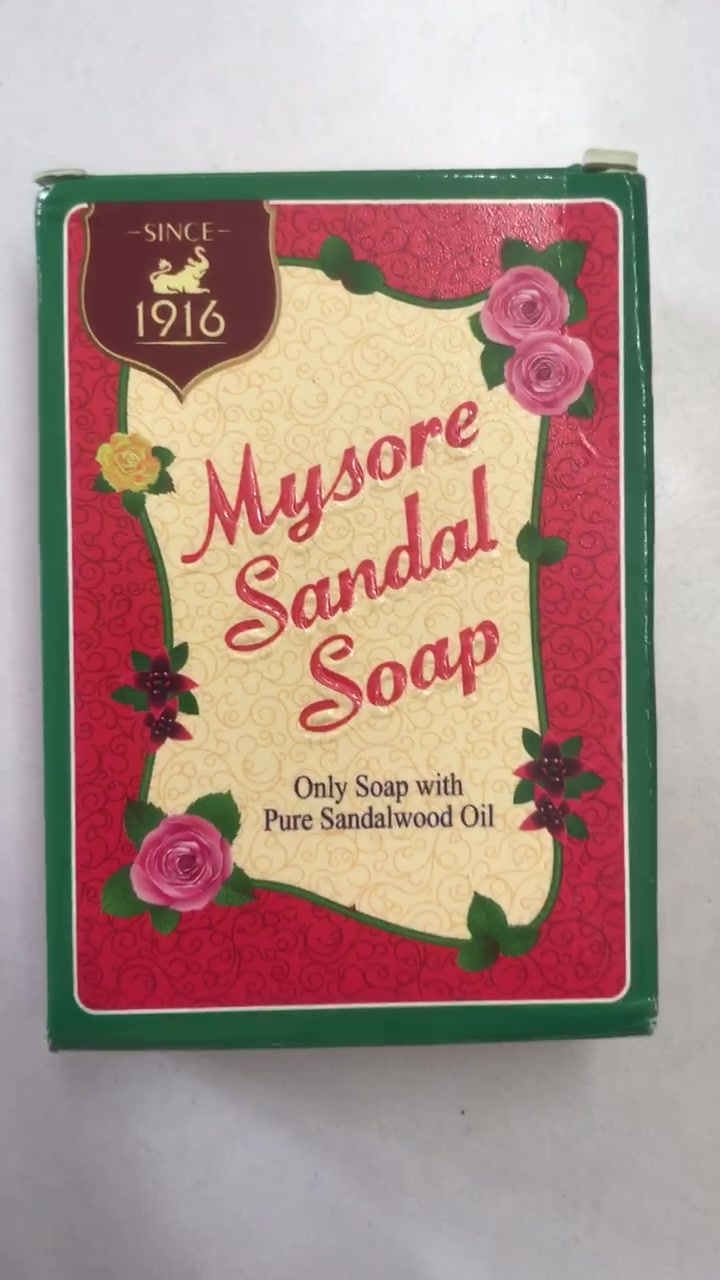mysore sandal soap: (35, 178, 656, 1038)
